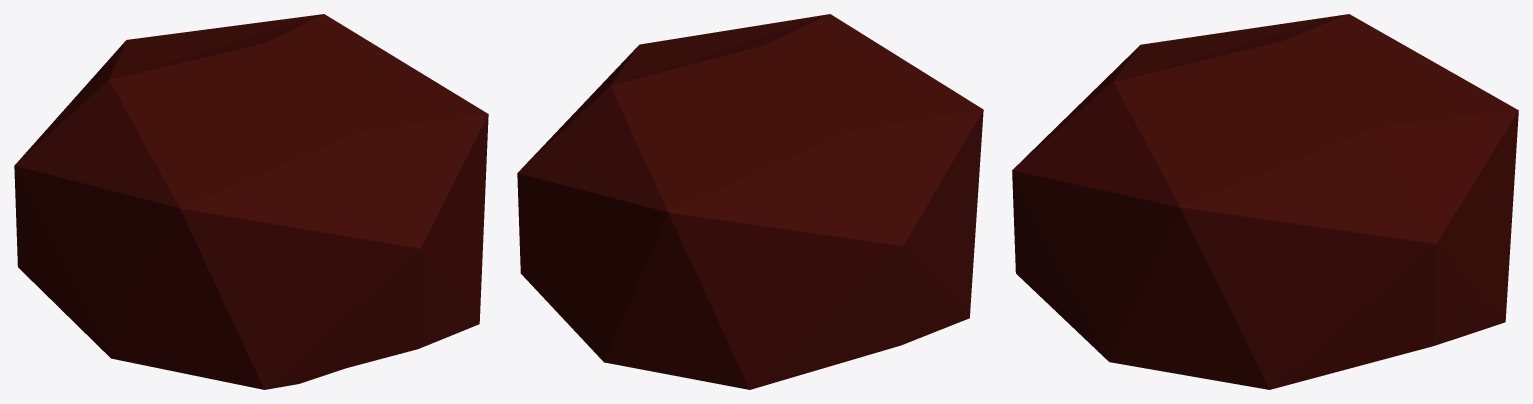
File: Mars_planet_rock_02_002.FBX
3 renders of one model, left to right at view 1: azimuth 30°, elevation 25°; view 2: azimuth 150°, elevation 25°; view 3: azimuth 270°, elevation 25°, orthographic. The views are drawn at different scales.
Visible parts, largest first — view 1: 002_MARS PLANET_ROCK_002; view 2: 002_MARS PLANET_ROCK_002; view 3: 002_MARS PLANET_ROCK_002.
Boxes of the visible parts, left/top/right/bottom form: 002_MARS PLANET_ROCK_002: left=14, top=14, right=488, bottom=389; 002_MARS PLANET_ROCK_002: left=517, top=14, right=983, bottom=389; 002_MARS PLANET_ROCK_002: left=1012, top=14, right=1518, bottom=389.
Size of the model in its own units: 0.9152 by 0.7337 by 1.03.
